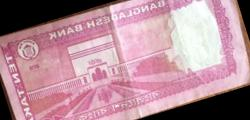10 taka: (3, 1, 235, 119)
